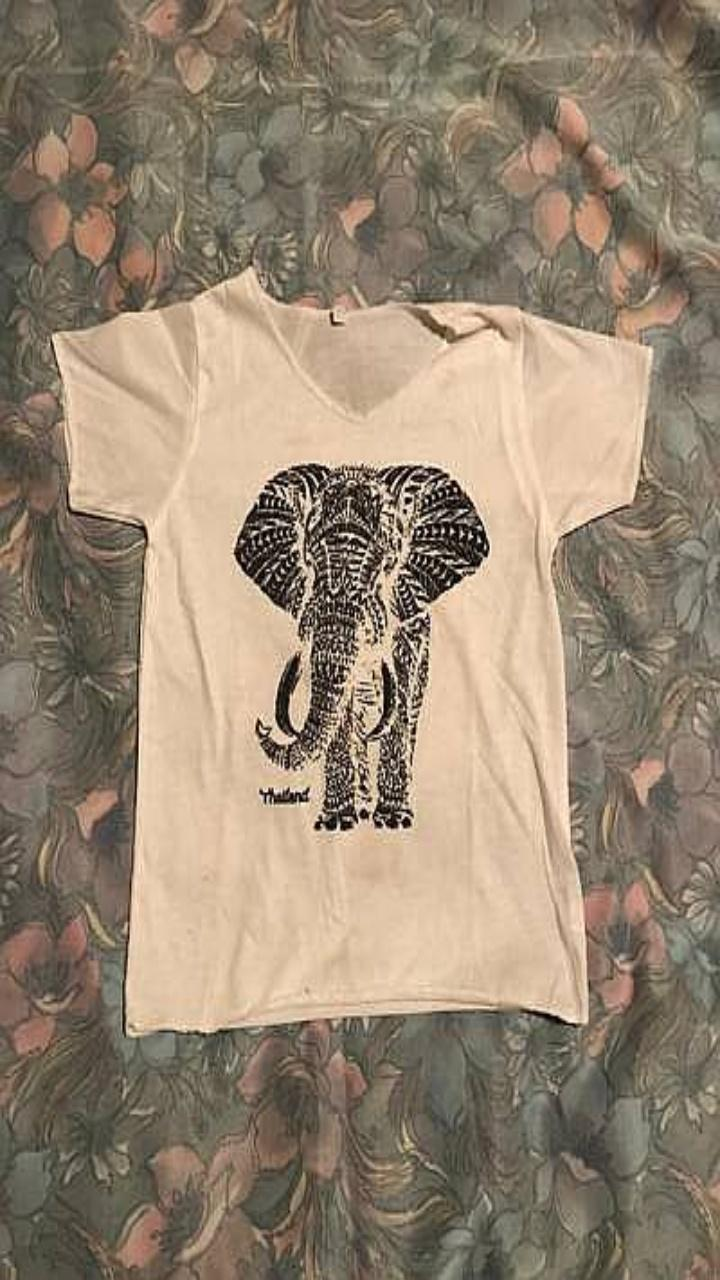T-Shirt: (52, 267, 651, 1035)
